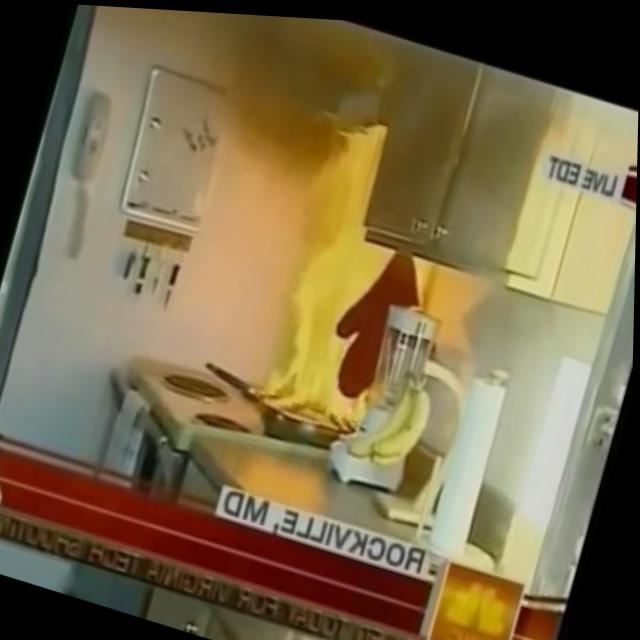fire: (244, 96, 473, 445)
